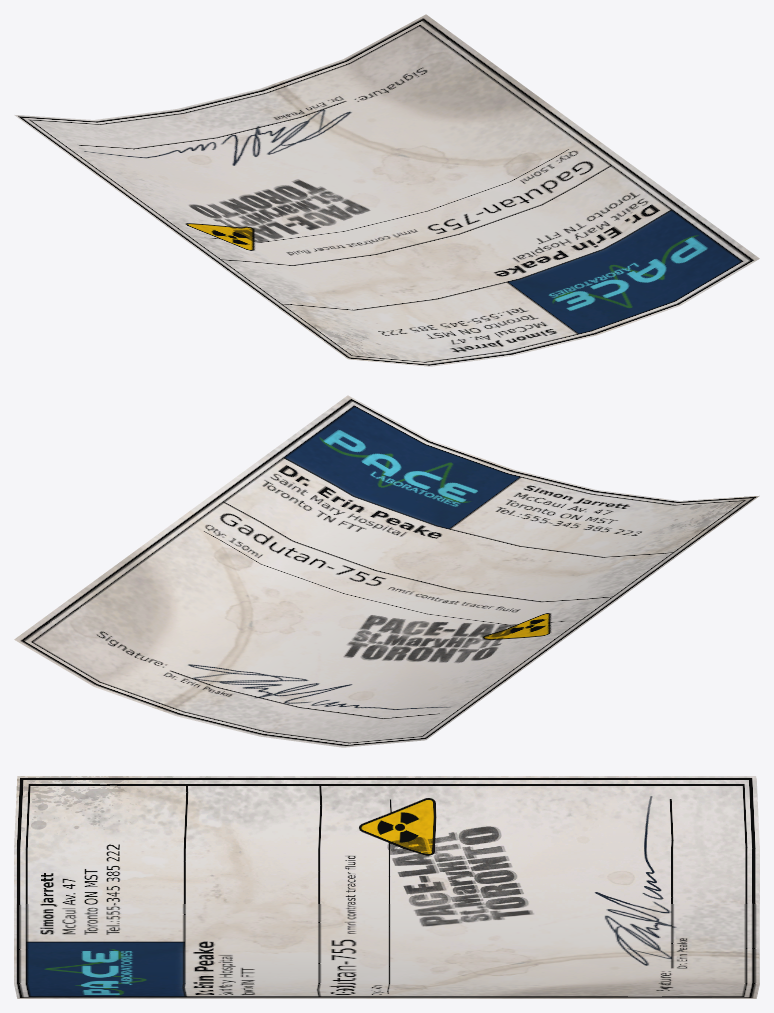
File: 00_01_corkboard_prescription.dae
3 renders of one model, top to bottom at view 1: azimuth 30°, elevation 25°; view 2: azimuth 150°, elevation 25°; view 3: azimuth 270°, elevation 25°, orthographic. The views are drawn at different scales.
Visible parts, largest first — view 1: Plane; view 2: Plane; view 3: Plane.
Boxes of the visible parts, x1=… form: Plane: x1=14, y1=14, x2=759, y2=366; Plane: x1=14, y1=395, x2=759, y2=747; Plane: x1=14, y1=776, x2=759, y2=998.
Size of the model in its own units: 0.404 by 0.572 by 0.0333.
1 material, 1 textured.
